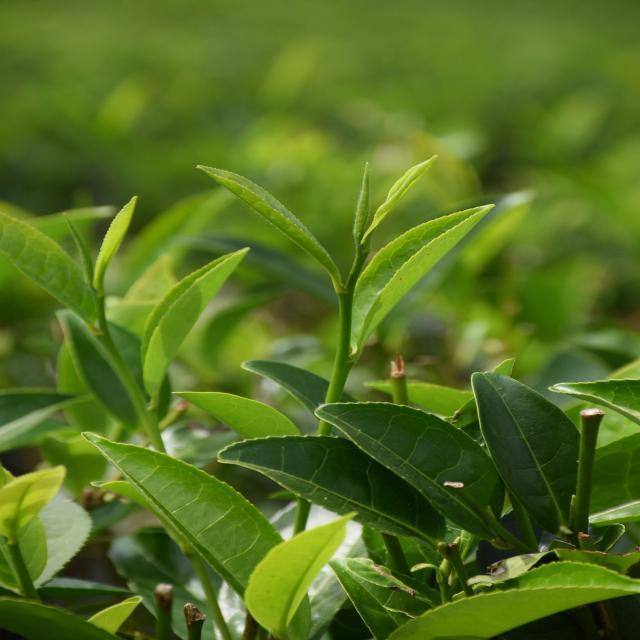Stem: (337, 294, 353, 342), (95, 296, 105, 322)
